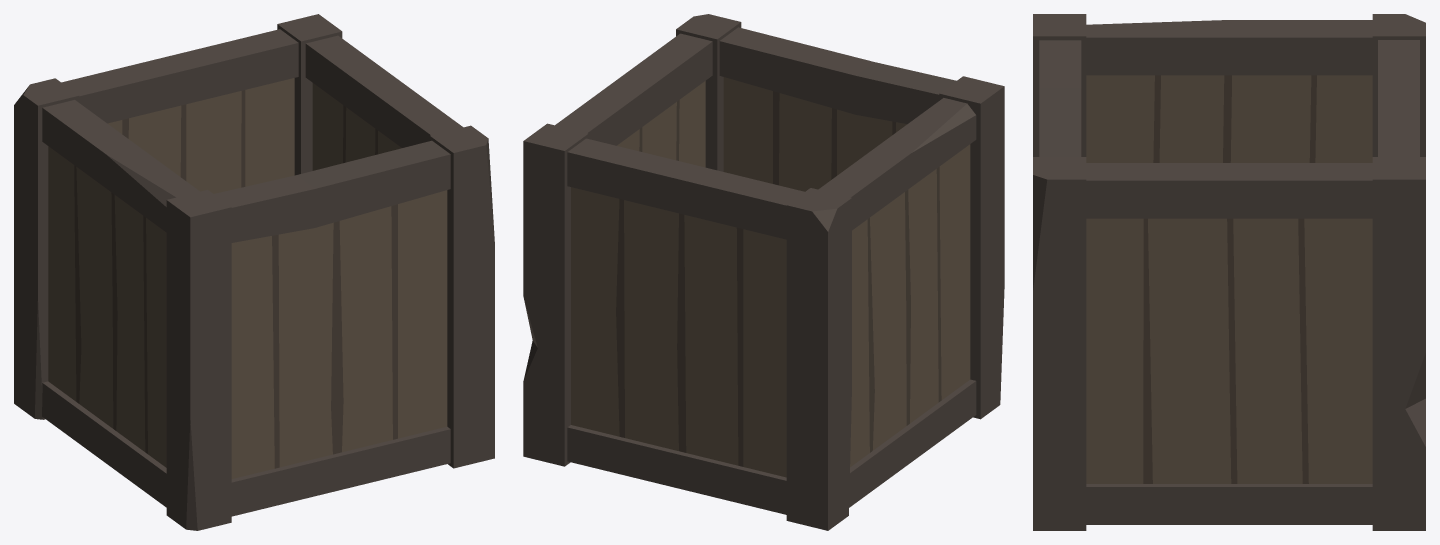
Rendered from SM_Props_Farm_Crate_02.fbx.
3 renders of one model, left to right at view 1: azimuth 30°, elevation 25°; view 2: azimuth 150°, elevation 25°; view 3: azimuth 270°, elevation 25°, orthographic. The views are drawn at different scales.
Visible parts, largest first — view 1: SM_Props_Farm_Crate_02; view 2: SM_Props_Farm_Crate_02; view 3: SM_Props_Farm_Crate_02.
Boxes of the visible parts, x1,y1,x2,y2 form: SM_Props_Farm_Crate_02: (14,14,494,530); SM_Props_Farm_Crate_02: (523,14,1004,530); SM_Props_Farm_Crate_02: (1033,14,1425,530).
Size of the model in its own units: 85.67 by 84.79 by 85.91.
